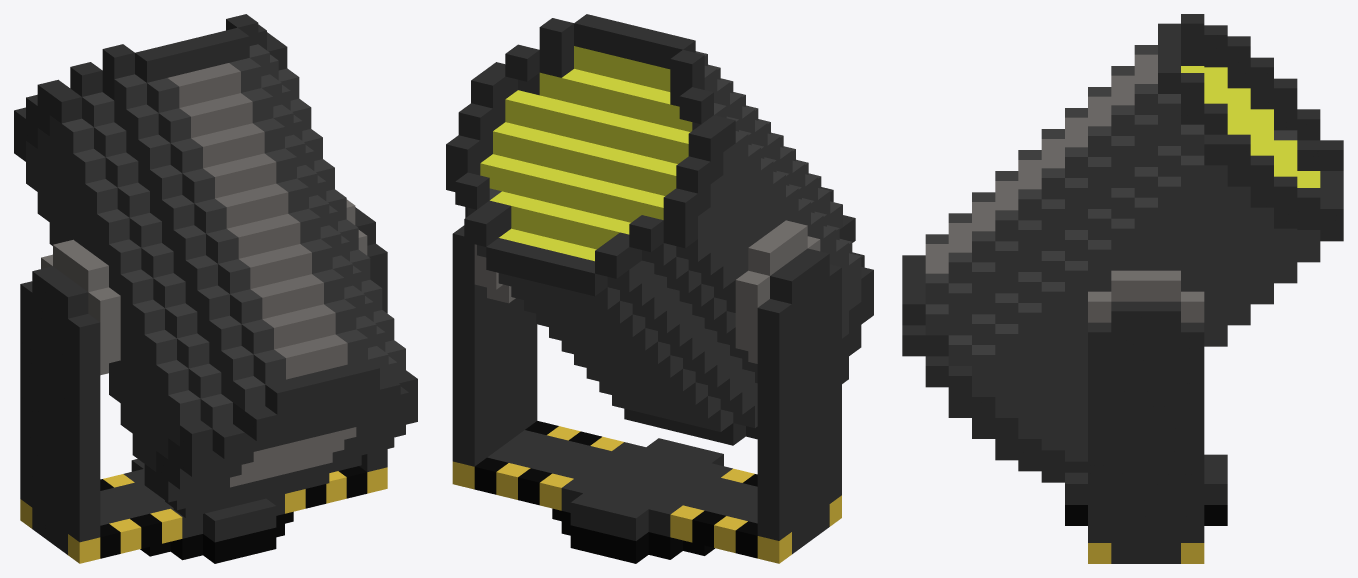
Rendered from Scene_Object_SpotLight.obj.
The picture shows the model from 3 angles, left to right: view 1: azimuth 30°, elevation 25°; view 2: azimuth 150°, elevation 25°; view 3: azimuth 270°, elevation 25°; orthographic projection. The views are drawn at different scales.
Bounding box in the file's own units: 1.5 × 2.2 × 1.9.
1 material, 1 textured.
